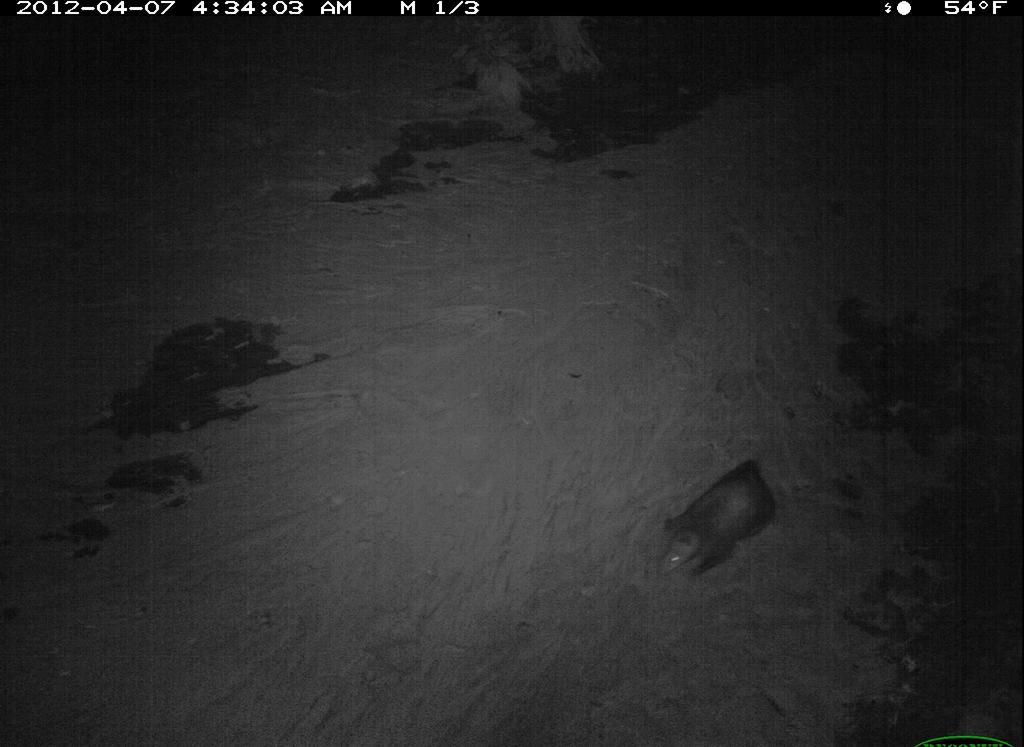opossum: (642, 447, 802, 606)
